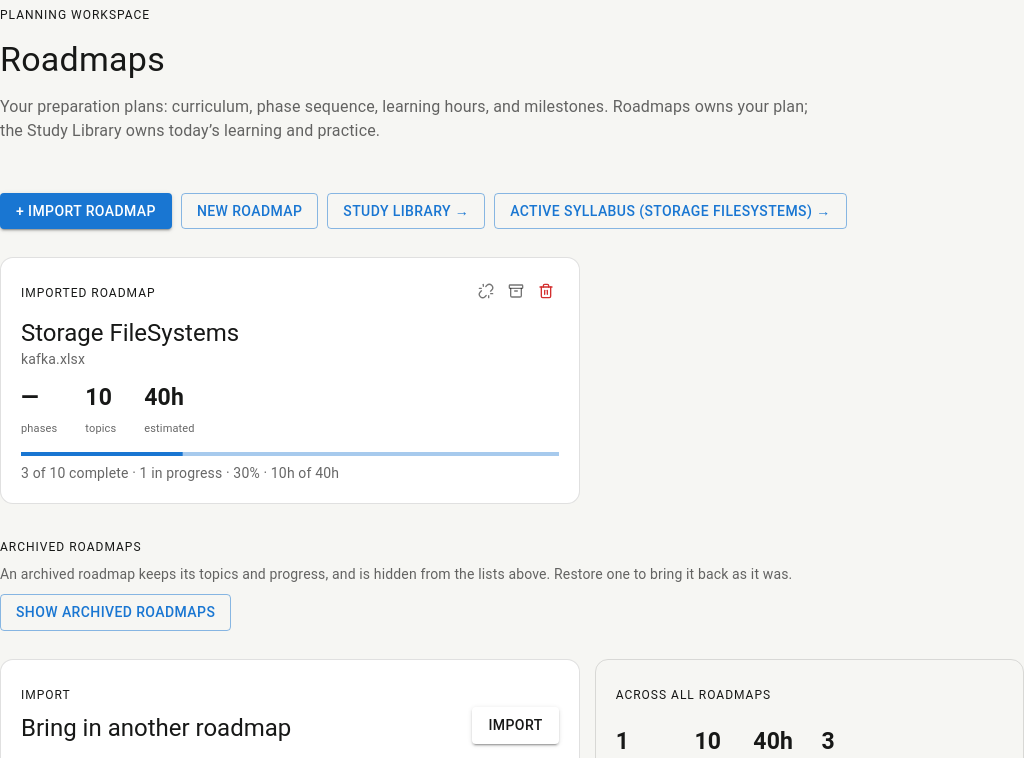
Test: RoadmapListPage › cancelling the unlink changes nothing
Expected: the link "Storage FileSystems" is shown, 21,319 -> 239,347
Click the button named "unlink storage filesystems". click: (486, 291)
box: 473,278 -> 499,304
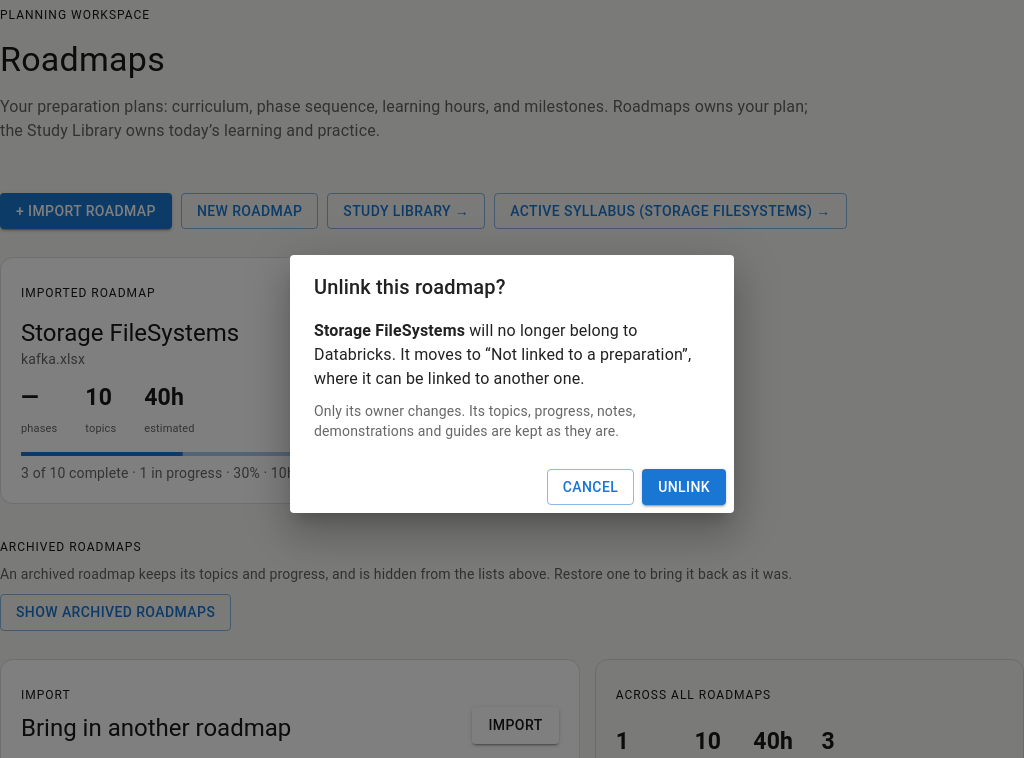
Click the button "Cancel". click: (591, 487)
box: 547,469 -> 634,505
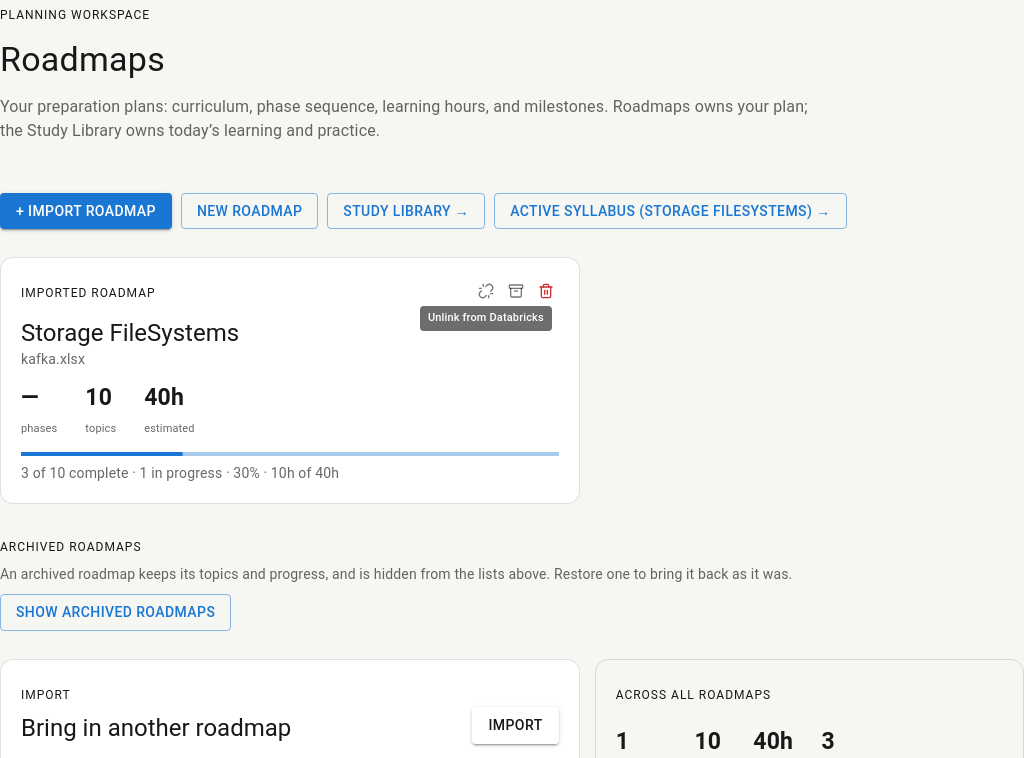
Now the dialog is gone
